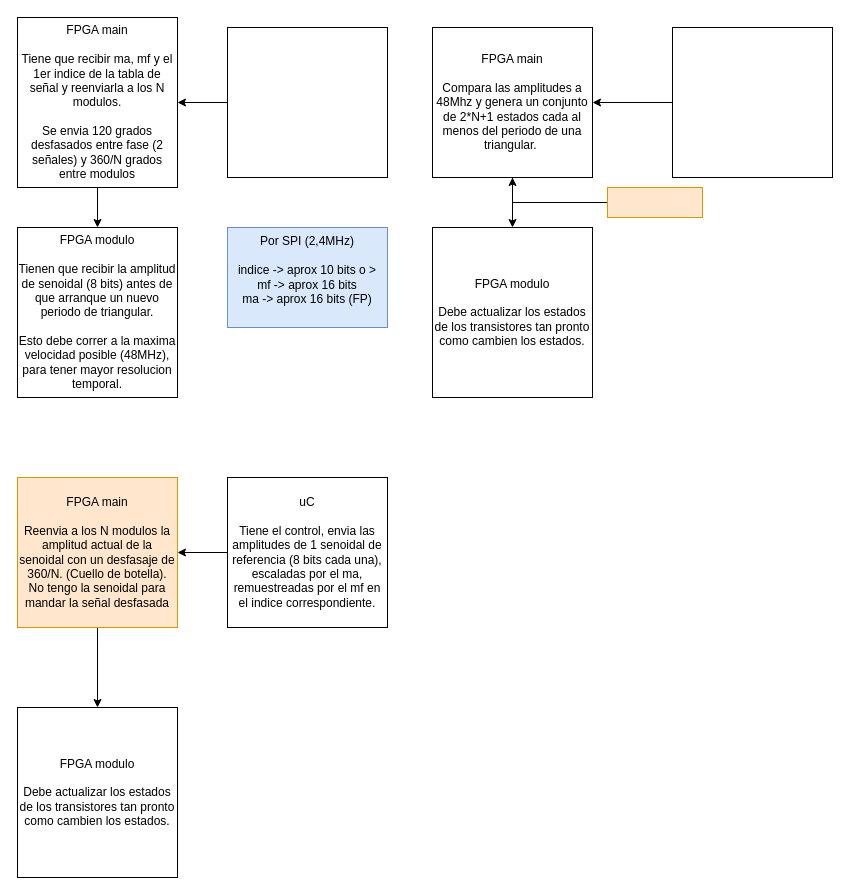
The diagram is 850 pixels wide and 895 high, and some of its shapes have lost their labels. Here are the shapes that lost their labels. From the top down, the box of each, then its label:
(226, 26, 388, 178): uC Tiene el control, el cual ajusta el ma, mf y el indice de la tabla
(672, 26, 832, 178): uC Tiene el control, envia las amplitudes de las 3 senoidales (8 bits cada una).
(606, 186, 702, 218): Cuello de botella
